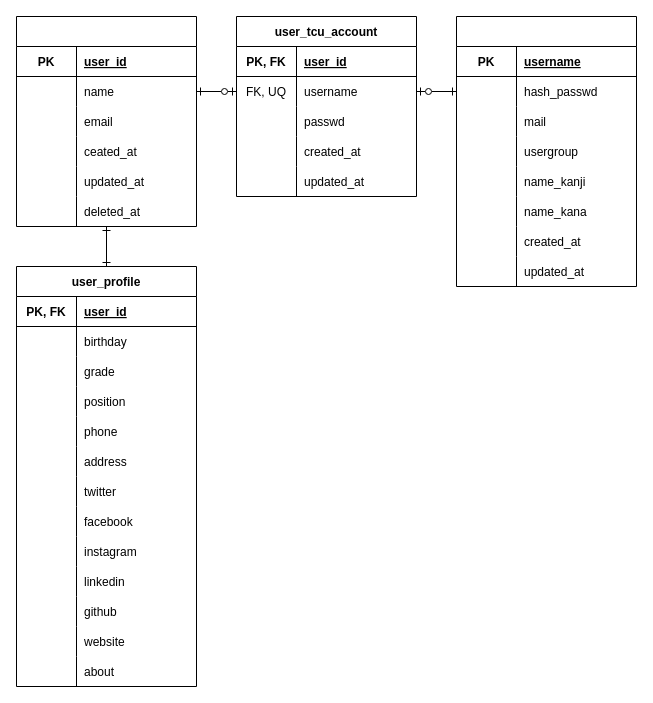
Some shapes in this 653 by 703 pixel diagram are drawn without their labels. Here are the shapes that lost their labels. From the top down, the box of each, then its label:
(16, 16, 196, 226): users
(456, 16, 636, 286): tcu_account
